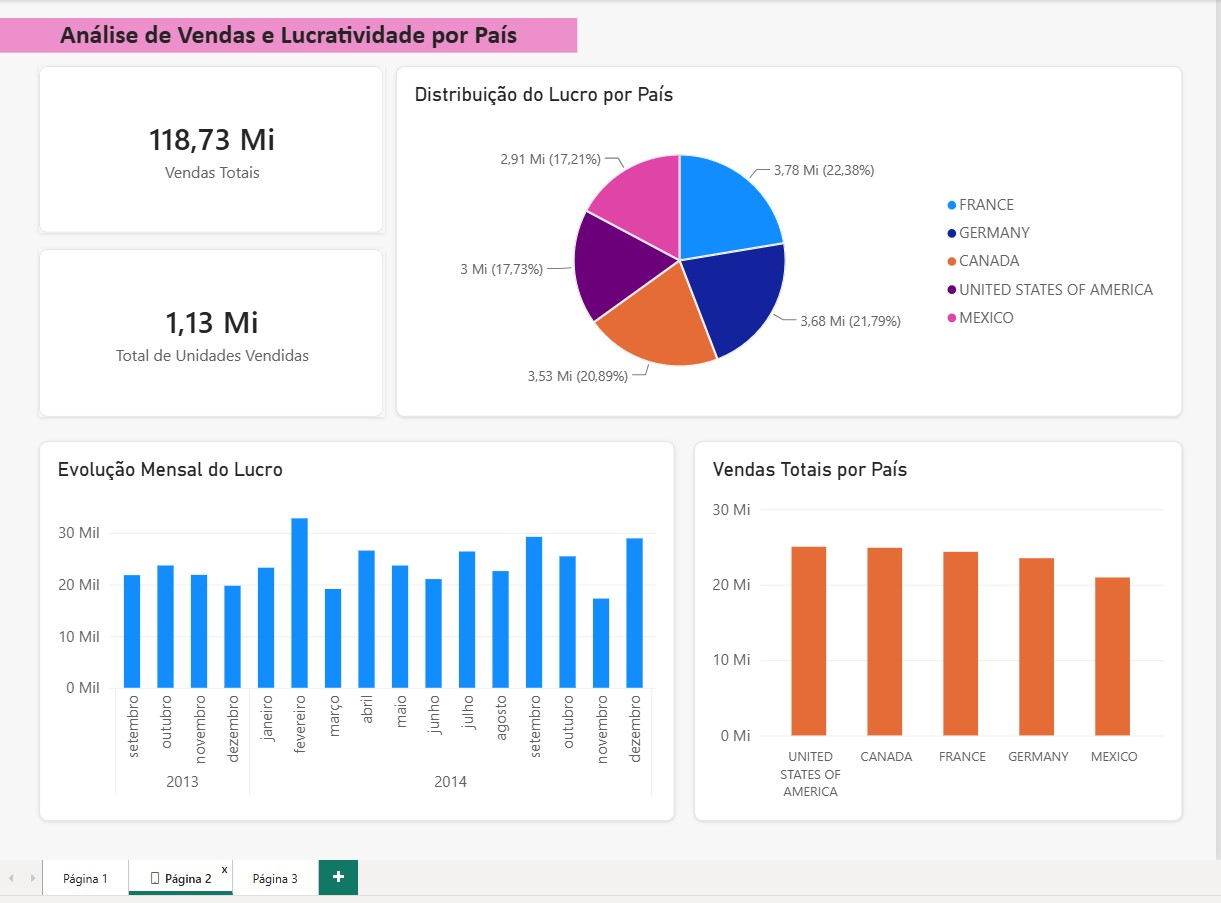

Layout of this report page (visuals, bound fields, positions):
{"tool":"powerbi","page":{"name":"Página 2","canvas":[1123,794],"ordinal":1},"visuals":[{"type":"textbox","box":[0,16.4,532.7,31.8],"z":0},{"type":"cardVisual","fields":{"Data":["Sum(financials. Sales)"]},"box":[36,60.9,318.5,154.2],"z":1000},{"type":"cardVisual","fields":{"Data":["Sum(financials.Units Sold)"]},"box":[36,229.9,318.5,155.1],"z":2000},{"type":"pieChart","title":"Distribuição do Lucro por País","fields":{"Category":["financials.Country"],"Y":["Sum(financials.Profit)"]},"box":[365.6,60.9,725.7,324.1],"z":3000},{"type":"clusteredColumnChart","title":"Evolução Mensal do Lucro","fields":{"Category":["financials.Date.Variação.Hierarquia de datas.Ano","financials.Date.Variação.Hierarquia de datas.Mês"],"Y":["Avg(financials.Profit)"]},"box":[36,407.2,587.2,350.8],"z":4000},{"type":"clusteredColumnChart","title":"Vendas Totais por País","fields":{"Category":["financials.Country"],"Y":["Sum(financials. Sales)"]},"box":[640.7,407.2,450.5,350.8],"z":5000}]}

Visuals, with their boxes on the page's 1123x794 design canvas (x1, y1, x2, y2). These are canvas units, not pixel positions in the 1221x903 screenshot, which may show the page scaled, cropped or inside an application window:
textbox: detection(0, 16, 533, 48)
cardVisual - Sum(financials. Sales): detection(36, 61, 354, 215)
cardVisual - Sum(financials.Units Sold): detection(36, 230, 354, 385)
"Distribuição do Lucro por País" pieChart: detection(366, 61, 1091, 385)
"Evolução Mensal do Lucro" clusteredColumnChart: detection(36, 407, 623, 758)
"Vendas Totais por País" clusteredColumnChart: detection(641, 407, 1091, 758)
